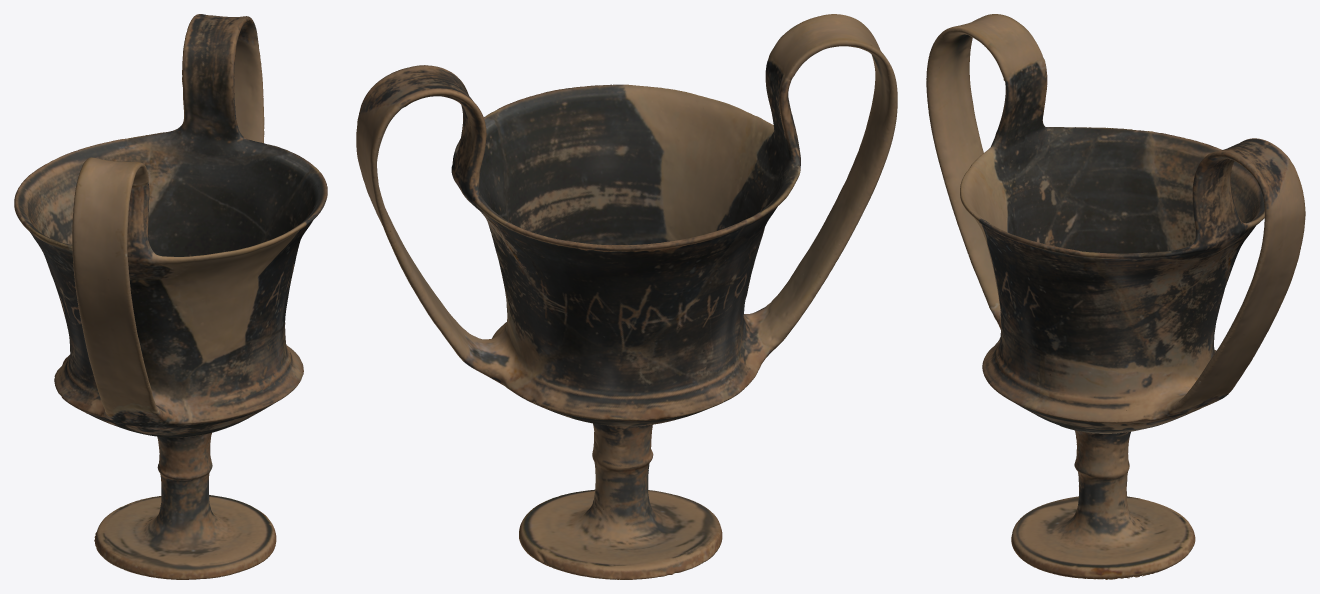
Rendered from kantharos.glb.
The picture shows the model from 3 angles, left to right: view 1: azimuth 30°, elevation 25°; view 2: azimuth 150°, elevation 25°; view 3: azimuth 270°, elevation 25°; orthographic projection. The views are drawn at different scales.
Parts seen in each view (by area): view 1: Kantaros1983_low_0; view 2: Kantaros1983_low_0; view 3: Kantaros1983_low_0.
Part boxes in pixels (box(x1,y1,x2,y2)): Kantaros1983_low_0: box(14, 14, 327, 579); Kantaros1983_low_0: box(356, 14, 897, 579); Kantaros1983_low_0: box(926, 14, 1305, 579).
Bounding box in the file's own units: 0.1968 × 0.252 × 0.1901.
1 material, 1 textured.
